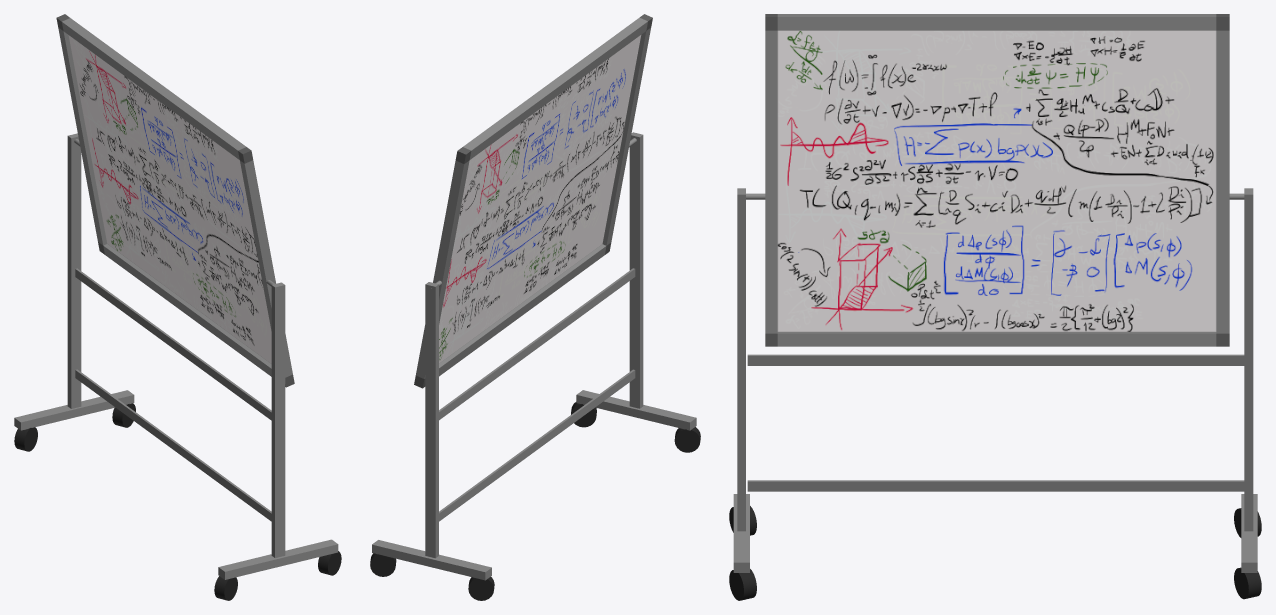
File: Whiteboard1.gltf
3 views of the same model, side by side, from view 1: azimuth 30°, elevation 25°; view 2: azimuth 150°, elevation 25°; view 3: azimuth 270°, elevation 25° (orthographic). The views are drawn at different scales.
Visible parts, largest first — view 1: pCube3_lambert4_0-lambert8, pCube3_lambert4_0-lambert4 (×2), pCube3_lambert4_0-lambert5, pCube3_lambert4_0-lambert6; view 2: pCube3_lambert4_0-lambert8, pCube3_lambert4_0-lambert4 (×2), pCube3_lambert4_0-lambert5, pCube3_lambert4_0-lambert6; view 3: pCube3_lambert4_0-lambert8, pCube3_lambert4_0-lambert4 (×2), pCube3_lambert4_0-lambert5, pCube3_lambert4_0-lambert6.
Boxes of the visible parts, x1,y1,x2,y2 form: pCube3_lambert4_0-lambert8: (68,35,271,363); pCube3_lambert4_0-lambert4 (×2): (14,18,338,579); pCube3_lambert4_0-lambert5: (14,403,341,600); pCube3_lambert4_0-lambert6: (56,14,294,387); pCube3_lambert4_0-lambert8: (439,35,641,363); pCube3_lambert4_0-lambert4 (×2): (372,17,696,580); pCube3_lambert4_0-lambert5: (370,402,700,600); pCube3_lambert4_0-lambert6: (414,14,652,388); pCube3_lambert4_0-lambert8: (777,30,1216,331); pCube3_lambert4_0-lambert4 (×2): (733,14,1257,572); pCube3_lambert4_0-lambert5: (729,506,1261,600); pCube3_lambert4_0-lambert6: (765,14,1229,346).
Bounding box in the file's own units: 0.9248 × 2.99 × 2.68.
Materials: 4 (1 with a texture image).
